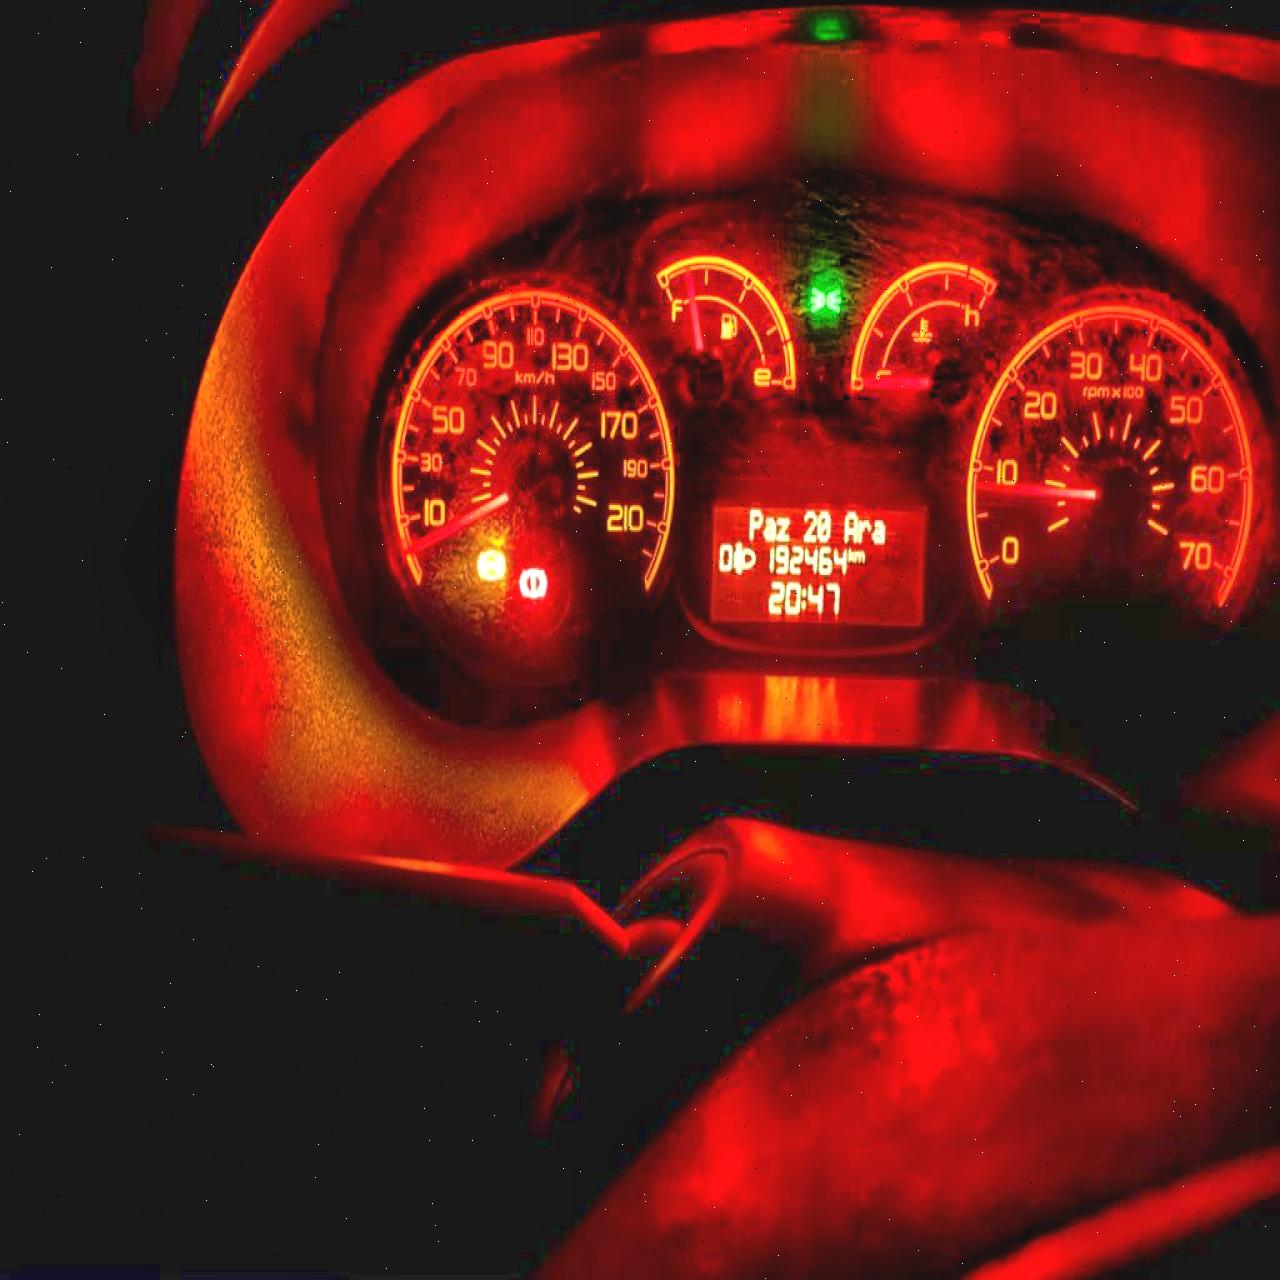0: (783, 579, 798, 613), (817, 510, 832, 542), (717, 542, 733, 570)
1: (768, 544, 775, 573)
2: (767, 580, 784, 615), (803, 509, 817, 545), (788, 544, 803, 573)
4: (806, 581, 824, 615), (832, 545, 846, 576), (803, 545, 817, 573)
6: (817, 542, 831, 577)
7: (825, 580, 840, 615)
9: (775, 544, 788, 573)
X: (844, 509, 858, 544), (748, 506, 762, 542), (871, 517, 885, 545), (776, 516, 790, 542), (858, 515, 870, 543), (763, 516, 775, 542), (798, 584, 806, 612), (855, 549, 865, 564), (846, 545, 855, 564)
odometer: (707, 499, 927, 628)
